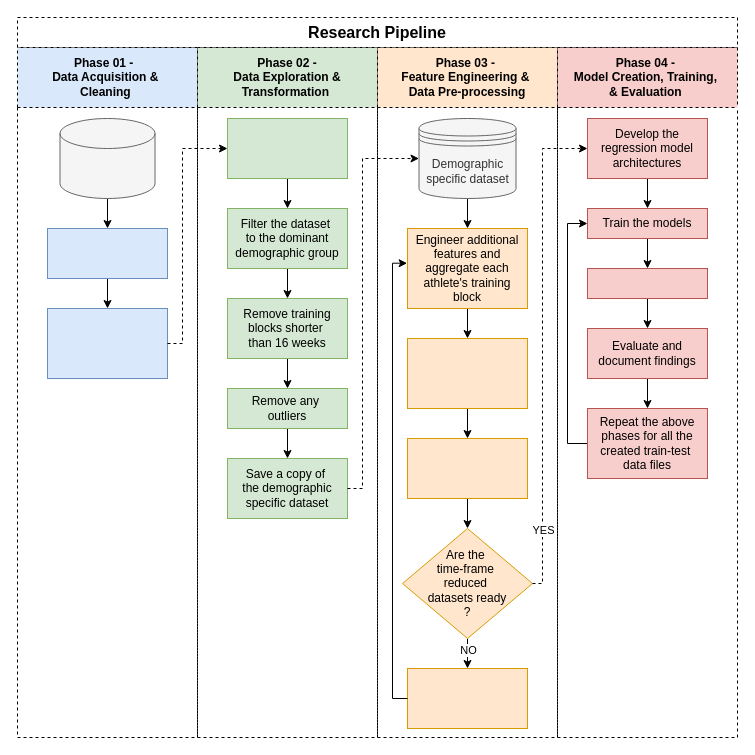
The diagram is 755 pixels wide and 755 high, and some of its shapes have lost their labels. The centre of each missing label's shape, as x and y in pixels:
Acquire a prototype script: the point at 107,253
Append the target value to the aggregated training block: the point at 467,373
Long-distance Training dataset: the point at 107,158
Perform statistical data analysis on the dataset: the point at 287,148
Reduce some weeks from the previously selected amount: the point at 467,698
Remove unwanted features and check for malformed or missing data: the point at 107,343
Split the aggregated dataset into separate train-test data files: the point at 467,468
Test the models: the point at 647,283
